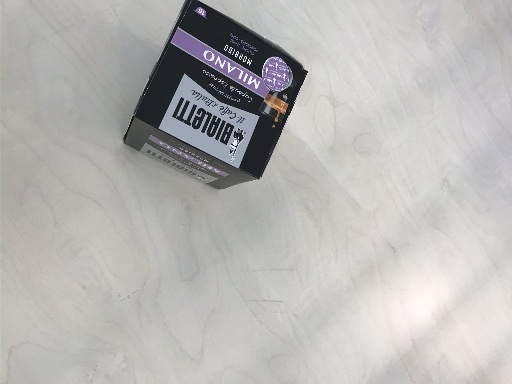Caffe: (124, 1, 311, 191)
